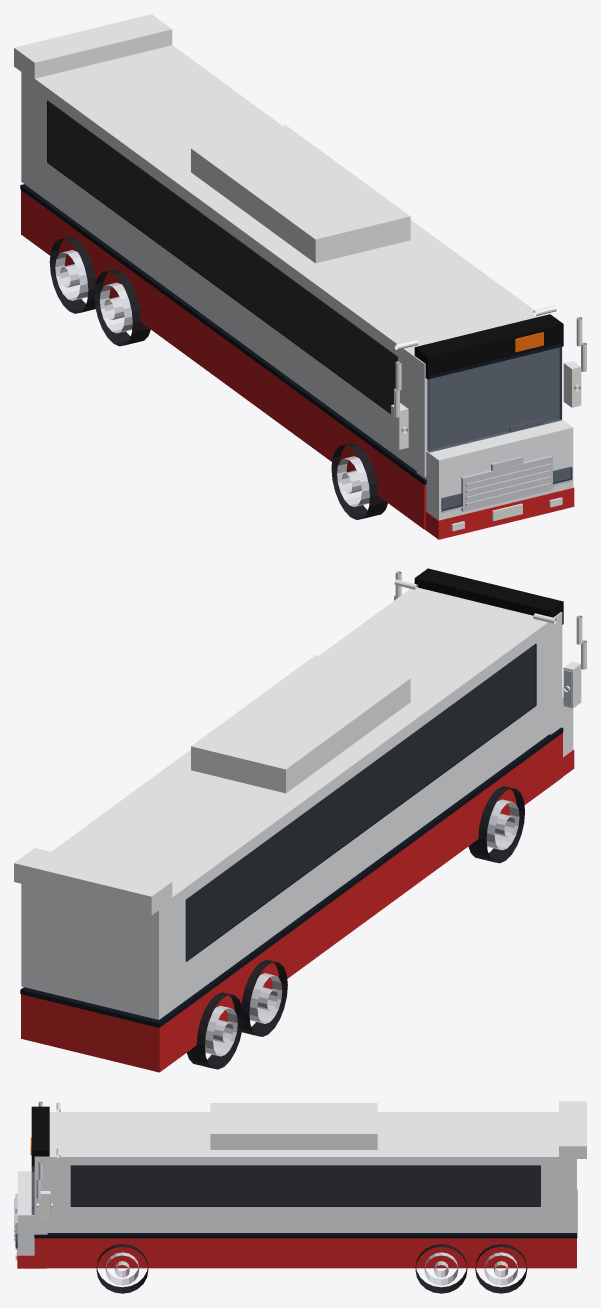
Rendered from ena_coach_kdk057m.obj.
The picture shows the model from 3 angles, top to bottom: view 1: azimuth 30°, elevation 25°; view 2: azimuth 150°, elevation 25°; view 3: azimuth 270°, elevation 25°; orthographic projection. The views are drawn at different scales.
Bounding box in the file's own units: 3.74 × 4.14 × 14.37.
